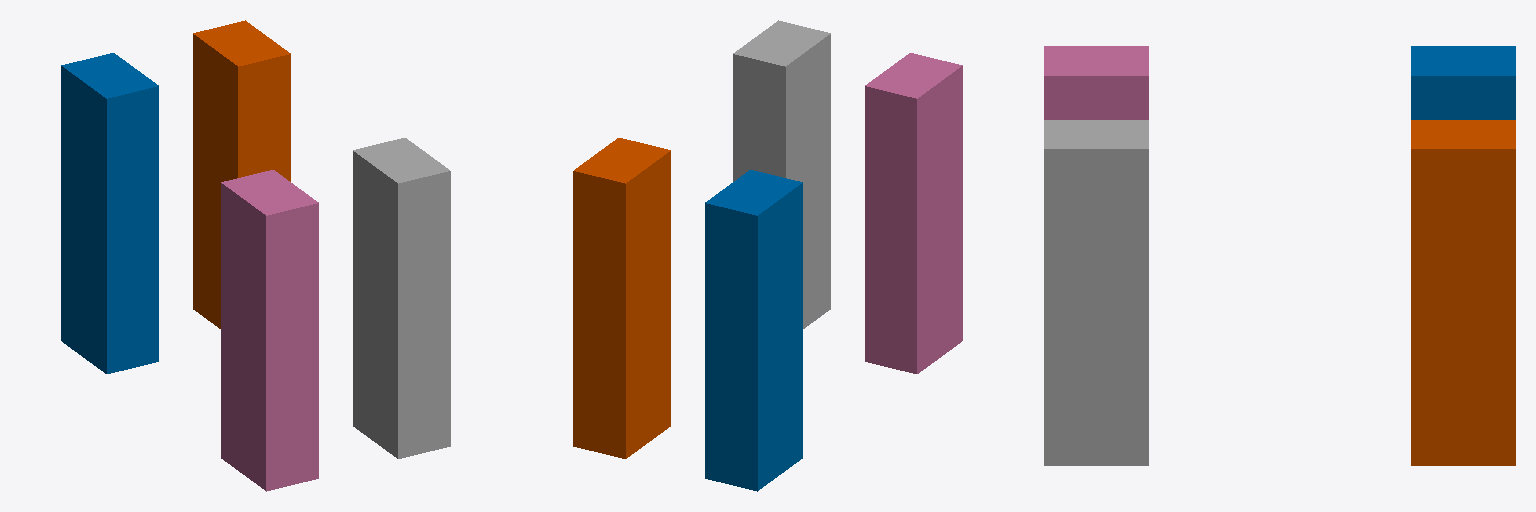
The robot description file, URDF, robot "kuka_iiwa":
<?xml version="1.0" ?>
<!--Autogenerated by "taco/models/sdf2urdf" converter from "../kuka_iiwa/kuka_iiwa.sdf"-->
<robot name="kuka_iiwa">

    <!-- GROUND LINK -->
  <link name ="ground_link">
    <inertial>
      <origin xyz="0.0 0.0 0.0" rpy="0 0 0" />
      <mass value="0.001" />
      <inertia ixx="1E-06" ixy="0.0" ixz="0.0" iyy="1E-06" iyz="0.0" izz="1E-06" />
    </inertial>
  </link>


  <!-- MOBILE BASE LINKS -->
  <link name ="base_x">
    <inertial>
      <origin xyz="0.0 0.0 0.0" rpy="0 0 0" />
      <mass value="0.001" />
      <inertia ixx="1E-06" ixy="0.0" ixz="0.0" iyy="1E-06" iyz="0.0" izz="1E-06" />
    </inertial>
  </link>

  <link name = "base_y">
    <inertial>
      <origin xyz="0.0 0.0 0.0" rpy="0 0 0" />
      <mass value = "0.001" />
      <inertia ixx="1E-06" ixy="0.0" ixz="0.0" iyy="1E-06" iyz="0.0" izz="1E-06" />
    </inertial>
  </link>

  <!-- MOBILE BASE -->
  <link name = "mobile_base">
    <inertial>
      <origin xyz="0.0 0.0 0.1757" rpy="0 0 0" />
      <mass value = "64.6" />
      <inertia ixx="1.721" ixy="0.0" ixz="0.0" iyy="1.712" iyz="0.0" izz="2.030" />
    </inertial>
    <visual>
      <geometry>
        <mesh filename="../../../model/iiwa7/meshes/kuka_mobile_base.obj" />
      </geometry>
    </visual>
  </link>

    <link name="base_link">
        <inertial>
            <origin xyz="0 0 0.14" rpy="0 -0 0" />
            <mass value="4" />
            <inertia ixx="0.4" iyy="0.4" izz="0.4" ixy="0" ixz="0" iyz="0" />
        </inertial>
        <visual>
            <origin xyz="0 0 0" rpy="0 -0 0" />
            <geometry>
                <mesh filename="../../../model/iiwa7/meshes/base.obj" scale="1 1 1" />
            </geometry>
        </visual>
        <!-- <collision>
            <origin xyz="0 0 0" rpy="0 -0 0" />
            <geometry>
                <mesh filename="../../../model/iiwa7/meshes/base.obj" scale="1 1 1" />
            </geometry>
        </collision> -->
    </link>
    <link name="link0">
        <inertial>
            <origin xyz="0 0 0.14" rpy="0 -0 0" />
            <mass value="4" />
            <inertia ixx="0.4" iyy="0.4" izz="0.4" ixy="0" ixz="0" iyz="0" />
        </inertial>
        <visual>
            <origin xyz="0 0 0" rpy="0 -0 0" />
            <geometry>
                <mesh filename="../../../model/iiwa7/meshes/link0.obj" scale="1 1 1" />
            </geometry>
        </visual>
        <!-- <collision>
            <origin xyz="0 0 0" rpy="0 -0 0" />
            <geometry>
                <mesh filename="../../../model/iiwa7/meshes/link0.obj" scale="1 1 1" />
            </geometry>
        </collision> -->
    </link>
    <link name="link1">
        <inertial>
            <origin xyz="0 0 0.14" rpy="0 -0 0" />
            <mass value="4" />
            <inertia ixx="0.4" iyy="0.4" izz="0.4" ixy="0" ixz="0" iyz="0" />
        </inertial>
        <visual>
            <origin xyz="0 0 0" rpy="0 -0 0" />
            <geometry>
                <mesh filename="../../../model/iiwa7/meshes/link1.obj" scale="1 1 1" />
            </geometry>
        </visual>
        <!-- <collision>
            <origin xyz="0 0 0" rpy="0 -0 0" />
            <geometry>
                <mesh filename="../../../model/iiwa7/meshes/link1.obj" scale="1 1 1" />
            </geometry>
        </collision> -->
    </link>
    <link name="link2">
        <inertial>
            <origin xyz="0 0 0.14" rpy="0 -0 0" />
            <mass value="4" />
            <inertia ixx="0.4" iyy="0.4" izz="0.4" ixy="0" ixz="0" iyz="0" />
        </inertial>
        <visual>
            <origin xyz="0 0 0" rpy="0 -0 0" />
            <geometry>
                <mesh filename="../../../model/iiwa7/meshes/link2.obj" scale="1 1 1" />
            </geometry>
        </visual>
        <!-- <collision>
            <origin xyz="0 0 0" rpy="0 -0 0" />
            <geometry>
                <mesh filename="../../../model/iiwa7/meshes/link2.obj" scale="1 1 1" />
            </geometry>
        </collision> -->
    </link>
    <link name="link3">
        <inertial>
            <origin xyz="0 0 0.14" rpy="0 0 0" />
            <mass value="4" />
            <inertia ixx="0.4" iyy="0.4" izz="0.4" ixy="0" ixz="0" iyz="0" />
        </inertial>
        <visual>
            <origin xyz="0 0 0" rpy="0 0 3.1415926535897" />
            <geometry>
                <mesh filename="../../../model/iiwa7/meshes/link3.obj" scale="1 1 1" />
            </geometry>
        </visual>
        <!-- <collision>
            <origin xyz="0 0 0" rpy="0 -0 0" />
            <geometry>
                <mesh filename="../../../model/iiwa7/meshes/link3.obj" scale="1 1 1" />
            </geometry>
        </collision> -->
    </link>
    <link name="link4">
        <inertial>
            <origin xyz="0 0 0.14" rpy="0 0 0" />
            <mass value="3" />
            <inertia ixx="0.3" iyy="0.3" izz="0.3" ixy="0" ixz="0" iyz="0" />
        </inertial>
        <visual>
            <origin xyz="0 0 0" rpy="0 0 0" />
            <geometry>
                <mesh filename="../../../model/iiwa7/meshes/link4.obj" scale="1 1 1" />
            </geometry>
        </visual>
        <!-- <collision>
            <origin xyz="0 0 0" rpy="0 -0 0" />
            <geometry>
                <mesh filename="../../../model/iiwa7/meshes/link4.obj" scale="1 1 1" />
            </geometry>
        </collision> -->
    </link>
    <link name="link5">
        <inertial>
            <origin xyz="0 0 0.14" rpy="0 0 0" />
            <mass value="2" />
            <inertia ixx="0.2" iyy="0.2" izz="0.2" ixy="0" ixz="0" iyz="0" />
        </inertial>
        <visual>
            <origin xyz="0 -0.06 0" rpy="0 0 0" />
            <geometry>
                <mesh filename="../../../model/iiwa7/meshes/link5.obj" scale="1 1 1" />
            </geometry>
        </visual>
        <!-- <collision>
            <origin xyz="0 -0.06 0" rpy="0 -0 0" />
            <geometry>
                <mesh filename="../../../model/iiwa7/meshes/link5.obj" scale="1 1 1" />
            </geometry>
        </collision> -->
    </link>
    <link name="link6">
        <inertial>
            <origin xyz="0 0 0.03" rpy="0 0 0" />
            <mass value="1" />
            <inertia ixx="0.1" iyy="0.1" izz="0.1" ixy="0" ixz="0" iyz="0" />
        </inertial>
        <visual>
            <origin xyz="0 0 0" rpy="0 0 0" />
            <geometry>
                <mesh filename="../../../model/iiwa7/meshes/link6.obj" scale="1 1 1" />
            </geometry>
        </visual>
        <!-- <collision>
            <origin xyz="0 0 0" rpy="0 0 0" />
            <geometry>
                <mesh filename="../../../model/iiwa7/meshes/link6.obj" scale="1 1 1" />
            </geometry>
        </collision> -->
        <visual>
        <origin xyz="0 0 0.03" rpy="0 0 0" />
        <geometry>
          <mesh filename="../../../model/iiwa7/meshes/hand.obj" scale="1 1 1"/>
        </geometry>
      </visual>
    </link>

    <link name="leftfinger">
      <inertial>
        <origin xyz="0 0 0.03" rpy="0 -0 0" />
        <mass value="0.1" />
        <inertia ixx="0.01" iyy="0.01" izz="0.005" ixy="0" ixz="0" iyz="0" />
      </inertial>
      <visual>
        <geometry>
          <mesh filename="../../../model/iiwa7/meshes/finger.obj"/>
        </geometry>
      </visual>

        <visual>
        <origin xyz="0 .01 0" rpy="0 0 0" />
        <geometry>
          <box size="0.03 .02 0.1" />
        </geometry>
      </visual> 
    </link>

    <link name="rightfinger">
      <inertial>
        <origin xyz="0 0 0.03" rpy="0 -0 0" />
        <mass value="0.1" />
        <inertia ixx="0.01" iyy="0.01" izz="0.005" ixy="0" ixz="0" iyz="0" />
      </inertial>
      <visual>
        <!-- <origin xyz="0 0 0" rpy="0 0 3.14159265359" /> -->
        <geometry>
          <mesh filename="../../../model/iiwa7/meshes/finger.obj"/>
        </geometry>
      </visual>

        <visual>
        <origin xyz="0 .01 0" rpy="0 0 0" />
        <geometry>
          <box size="0.03 .02 0.1" />
        </geometry>
      </visual> 
    </link>
  
     <link name="lower_leftfinger">
      <inertial>
        <origin xyz="0 0 0.03" rpy="0 -0 0" />
        <mass value="0.1" />
        <inertia ixx="0.01" iyy="0.01" izz="0.005" ixy="0" ixz="0" iyz="0" />
      </inertial>
      <visual>
        <geometry>
          <mesh filename="../../../model/iiwa7/meshes/finger.obj"/>
        </geometry>
      </visual>

        <visual>
        <origin xyz="0 .01 0" rpy="0 0 0" />
        <geometry>
          <box size="0.03 .02 0.1" />
        </geometry>
      </visual> 
    </link>

    <link name="lower_rightfinger">
      <inertial>
        <origin xyz="0 0 0.03" rpy="0 -0 0" />
        <mass value="0.1" />
        <inertia ixx="0.01" iyy="0.01" izz="0.005" ixy="0" ixz="0" iyz="0" />
      </inertial>
      <visual>
        <!-- <origin xyz="0 0 0" rpy="0 0 3.14159265359" /> -->
        <geometry>
          <mesh filename="../../../model/iiwa7/meshes/finger.obj"/>
        </geometry>
      </visual>

       <visual>
        <origin xyz="0 .01 0" rpy="0 0 0" />
        <geometry>
          <box size="0.03 .02 0.1" />
        </geometry>
      </visual> 
    </link>

    <joint name = "base_prismatic_x" type = "prismatic">
    <origin xyz = "0 0 0" rpy = "0 0 0"/> 
    <parent link = "ground_link" />
    <child link= "base_x"/>
    <axis xyz = "1 0 0" />
    <limit effort="87" lower="-2.8973" upper="2.9873" velocity="2.1750" />
  </joint>

  <joint name = "base_prismatic_y" type = "prismatic">
    <origin xyz = "0 0 0" rpy = "0 0 0"/> 
    <parent link = "base_x" />
    <child link= "base_y"/>
    <axis xyz = "0 1 0" />
    <limit effort="87" lower="-2.8973" upper="2.9873" velocity="2.1750" />
  </joint>

  <joint name = "base_revolute" type = "revolute">
    <origin xyz = "0 0 0.0" rpy = "0 0 0"/> 
    <parent link = "base_y" />
    <child link= "mobile_base"/>
    <axis xyz = "0 0 1" />
    <limit effort="87" lower="-2.8973" upper="2.8973" velocity="2.1750" />
  </joint>

   <joint name = "base_arm_fixed" type = "fixed">
    <origin xyz = "0 0 0.125" rpy = "0 0 0"/> 
    <parent link = "mobile_base" />
    <child link= "base_link"/>
    <axis xyz = "0 0 1" />
    <limit effort="87" lower="-2.8973" upper="2.8973" velocity="2.1750" />
  </joint>

  <!-- <joint name = "base_prismatic_link0" type = "prismatic">
    <origin xyz = "0 0 0.33" rpy = "0 0 0"/> 
    <parent link = "base_link" />
    <child link= "link0"/>
    <axis xyz = "0 0 1" />
    <limit effort="87" lower="-2.8973" upper="2.8973" velocity="2.1750" />
  </joint> -->

    <joint name="j0" type="revolute">
        <parent link="base_link" />
        <child link="link0" />
        <origin xyz="0.000000 0.000000 0.155767" rpy="0.000000 0.000000 0.000000" />
        <axis xyz="0 0 1" />
        <limit lower="-2.967" upper="2.967" effort="176" velocity="1.7104" />
    </joint>
    <joint name="j1" type="revolute">
        <parent link="link0" />
        <child link="link1" />
        <origin xyz="0.000000 0.000000 0.182500" rpy="0.000000 0.000000 0.000000" />
        <axis xyz="0 1 0" />
        <limit lower="-2.0944" upper="2.0944" effort="176" velocity="1.7104" />
    </joint>
    <joint name="j2" type="revolute">
        <parent link="link1" />
        <child link="link2" />
        <origin xyz="0.000000 0.000000 0.185000" rpy="0.000000 0.000000 0.000000" />
        <axis xyz="0 0 1" />
        <limit lower="-2.967" upper="2.967" effort="110" velocity="1.7453" />
    </joint>
    <joint name="j3" type="revolute">
        <parent link="link2" />
        <child link="link3" />
        <origin xyz="0.000000 0.000000 0.217000" rpy="0.000000 0.000000 3.1415926535897" />
        <axis xyz="0 1 0" />
        <limit lower="-2.0944" upper="2.0944" effort="110" velocity="2.2689" />
    </joint>
    <joint name="j4" type="revolute">
        <parent link="link3" />
        <child link="link4" />
        <origin xyz="0.000000 0.000000 0.186000" rpy="0.000000 0.000000 -3.1415926535897" />
        <axis xyz="0 0 1" />
        <limit lower="-2.967" upper="2.967" effort="110" velocity="2.4434" />
    </joint>
    <joint name="j5" type="revolute">
        <parent link="link4" />
        <child link="link5" />
        <origin xyz="0.000000 0.000000 0.217003" rpy="0.000000 0.000000 0.000000" />
        <axis xyz="0 1 0" />
        <limit lower="-2.0944" upper="2.0944" effort="40" velocity="3.1416" />
    </joint>
    <joint name="j6" type="revolute">
        <parent link="link5" />
        <child link="link6" />
        <origin xyz="0.000000 0.000000 0.081000" rpy="0.000000 0.000000 0.000000" />
        <axis xyz="0 0 1" />
        <limit lower="-3.0543" upper="3.0543" effort="40" velocity="3.1416" />
    </joint>

    <joint name="finger_joint1" type="prismatic">
      <parent link="link6"/>
      <child link="leftfinger"/>
      <origin xyz="-0.015 0.04 0.09" rpy="0 0 1.570796327"/>
      <axis xyz="0 1 0"/>
      <!-- <calibration rising="0.02" /> -->
      <limit effort="20" lower="0.0" upper="0.04" velocity="0.2"/>
    </joint>

    <joint name="finger_joint2" type="prismatic">
      <parent link="link6"/>
      <child link="rightfinger"/>
      <origin xyz="0.015 0.04 0.09" rpy="0 0 -1.570796327"/>
      <axis xyz="0 1 0"/>
      <!-- <calibration rising="-0.04" /> -->
      <limit effort="20" lower="0.0" upper="0.04" velocity="0.2"/>
      <!-- <mimic joint="finger_joint1" /> -->
    </joint>

     <joint name="finger_joint3" type="prismatic">
      <parent link="link6"/>
      <child link="lower_leftfinger"/>
      <origin xyz="-0.015 -0.065 0.09" rpy="0 0 1.570796327"/>
      <axis xyz="1 0 0"/>
      <calibration rising="0.02" />
      <limit effort="20" lower="0.0" upper="0.04" velocity="0.2"/>
    </joint>

     <joint name="finger_joint4" type="prismatic">
      <parent link="link6"/>
      <child link="lower_rightfinger"/>
      <origin xyz="0.015 -0.065 0.09" rpy="0 0 -1.570796327"/>
      <axis xyz="1 0 0"/>
      <calibration rising="-0.02" />
      <limit effort="20" lower="0.0" upper="0.04" velocity="0.2"/>
    </joint>
</robot>

--- What the picture shows (computed from the rendered views, not written in the file) ---
3 views of the same robot in one strip: view 1: azimuth 30°, elevation 25°; view 2: azimuth 150°, elevation 25°; view 3: azimuth 270°, elevation 25° (orthographic).
Robot: kuka_iiwa — 16 links, 15 joints (8 revolute, 6 prismatic, 1 fixed); root link ground_link; default pose: every joint at zero.
Visible links, largest first — view 1: lower_leftfinger, leftfinger, lower_rightfinger, rightfinger; view 2: leftfinger, rightfinger, lower_leftfinger, lower_rightfinger; view 3: rightfinger, lower_rightfinger, leftfinger, lower_leftfinger.
Link boxes in pixels (x1,y1,x2,y2): lower_leftfinger: (221,170,318,491); leftfinger: (61,53,158,373); lower_rightfinger: (353,138,450,458); rightfinger: (193,20,290,328); leftfinger: (705,170,802,491); rightfinger: (573,138,670,458); lower_leftfinger: (865,53,962,373); lower_rightfinger: (733,20,830,328); rightfinger: (1411,120,1515,465); lower_rightfinger: (1044,120,1148,465); leftfinger: (1411,46,1515,119); lower_leftfinger: (1044,46,1148,119).
Bounding box of the posed robot: 0.07 × 0.135 × 0.1 m (x, y, z).
Geometry: only primitive shapes (box / cylinder / sphere) drawn; not drawn: 14 mesh visuals (reference in a form the renderer does not follow).